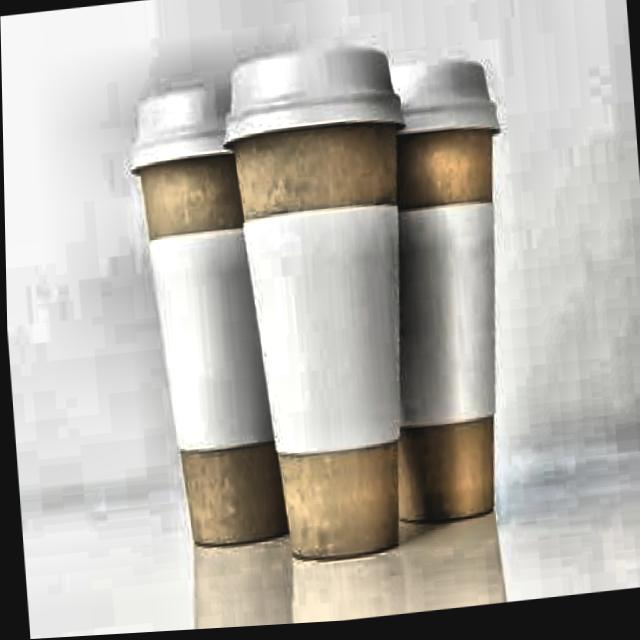Cup: (212, 34, 419, 583), (121, 78, 301, 573), (350, 42, 522, 556)
